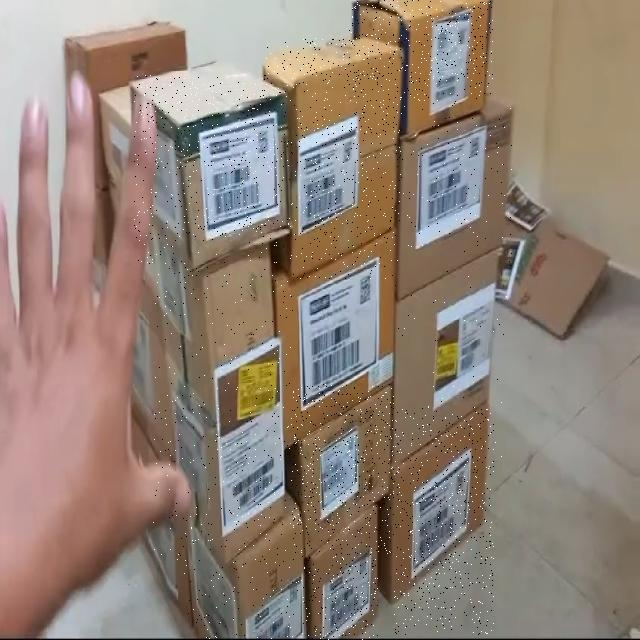BoxFace: (153, 237, 295, 560), (264, 38, 409, 279), (134, 75, 284, 268), (394, 248, 504, 464), (394, 407, 494, 635), (402, 96, 512, 302), (349, 0, 493, 135), (292, 384, 394, 556), (184, 512, 307, 640), (302, 503, 378, 640)
